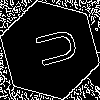U: (25, 25, 79, 72)
